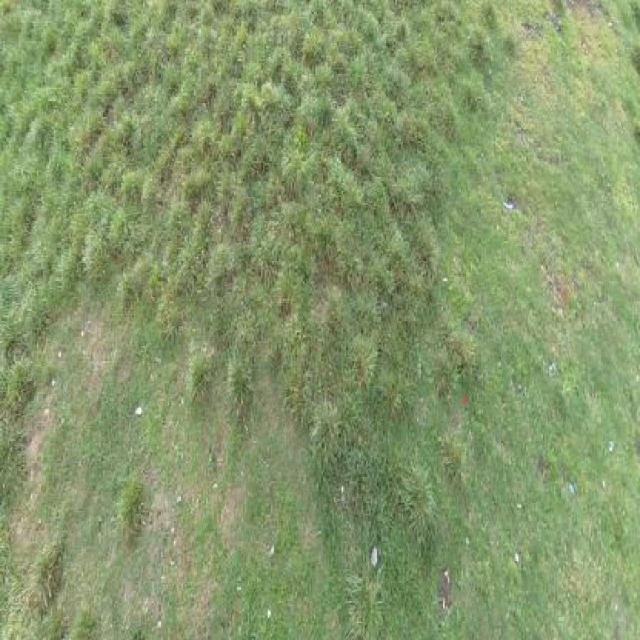Garbage: (464, 395, 467, 403)
